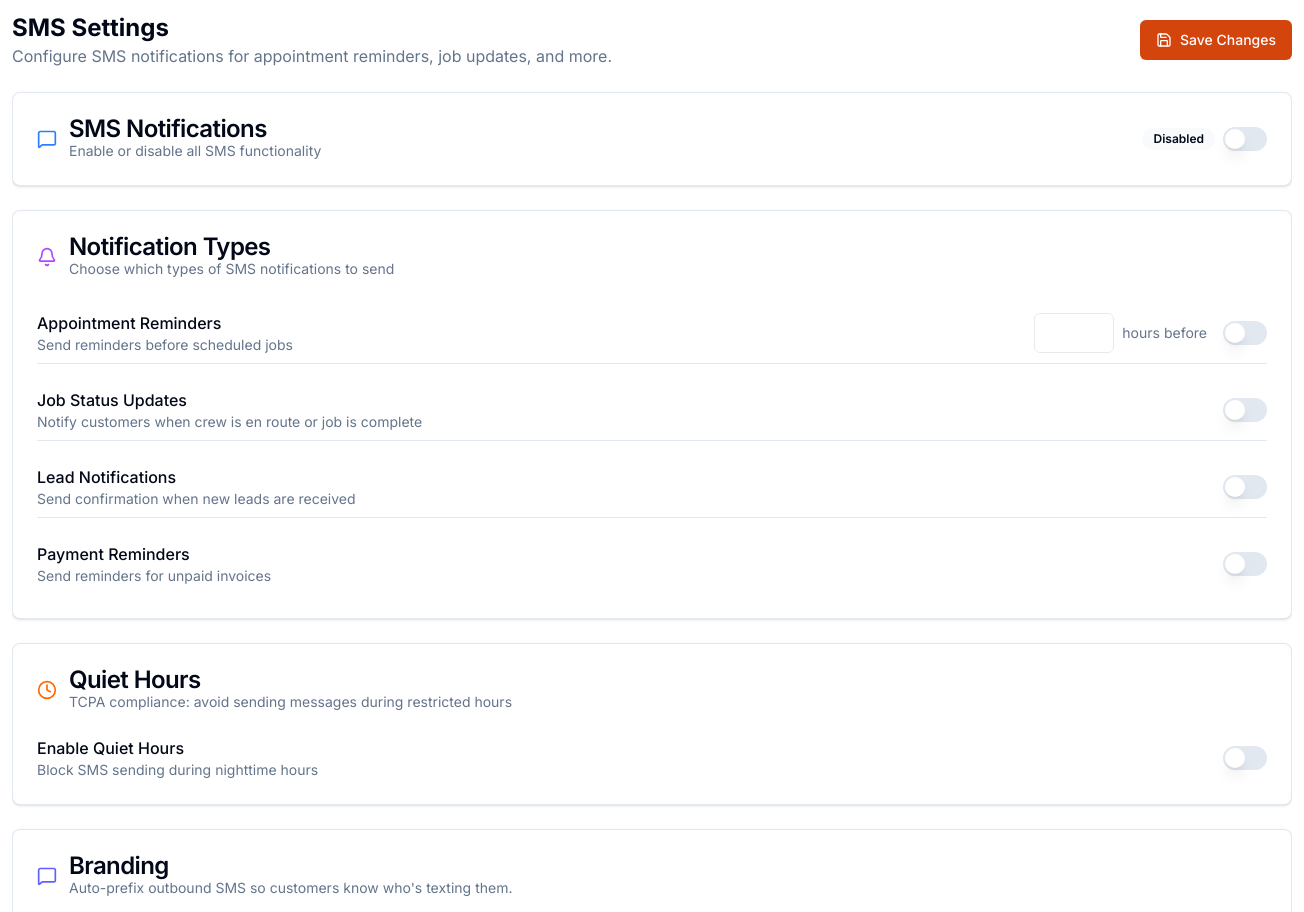
Scenario: SmsSettingsPage › displays error message when save fails
Click the button "Save Changes" at {"x": 1216, "y": 40}, box [1140,20,1292,60]
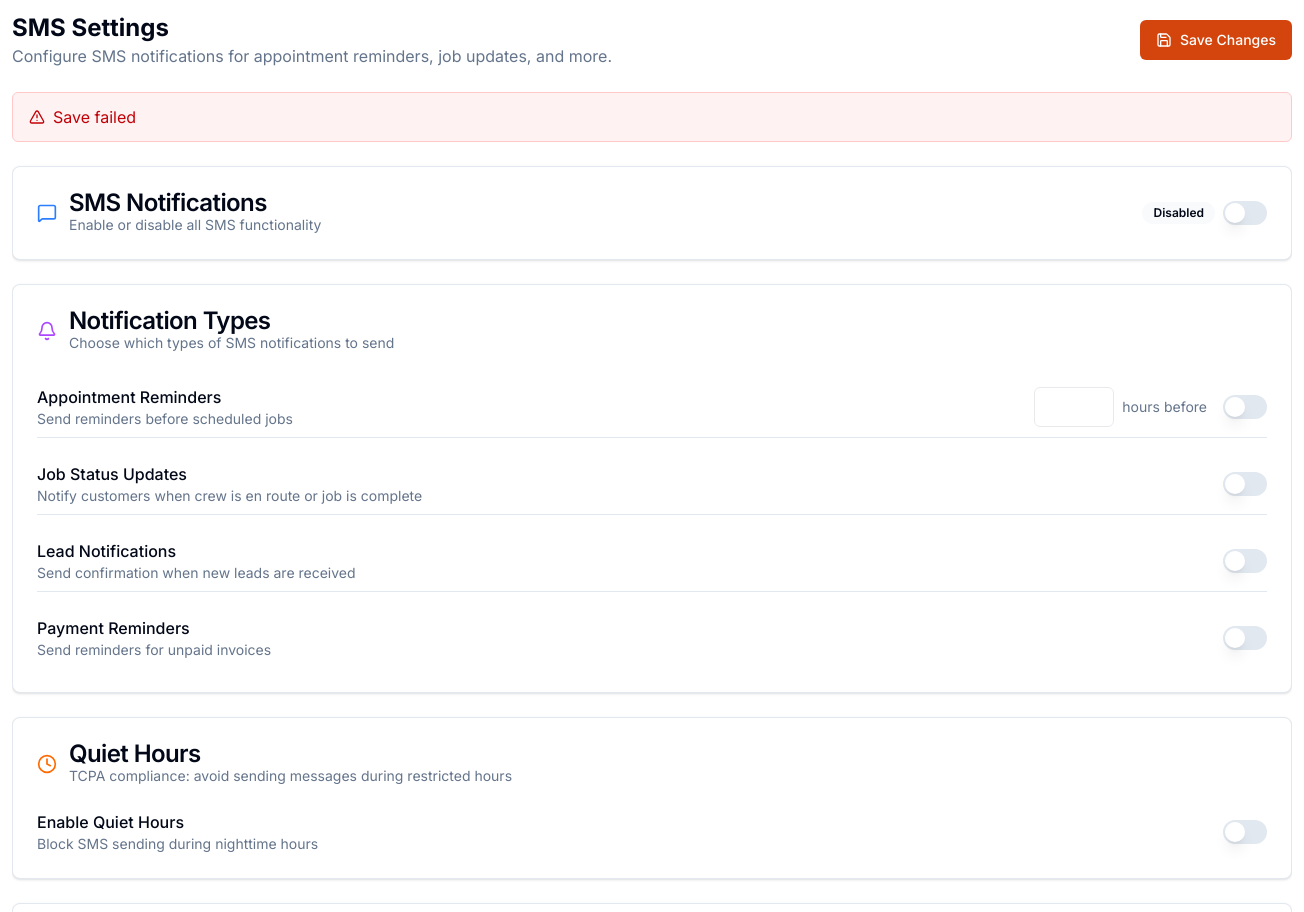
Expected: the text "Save failed" is shown, [12,92,1292,142]
